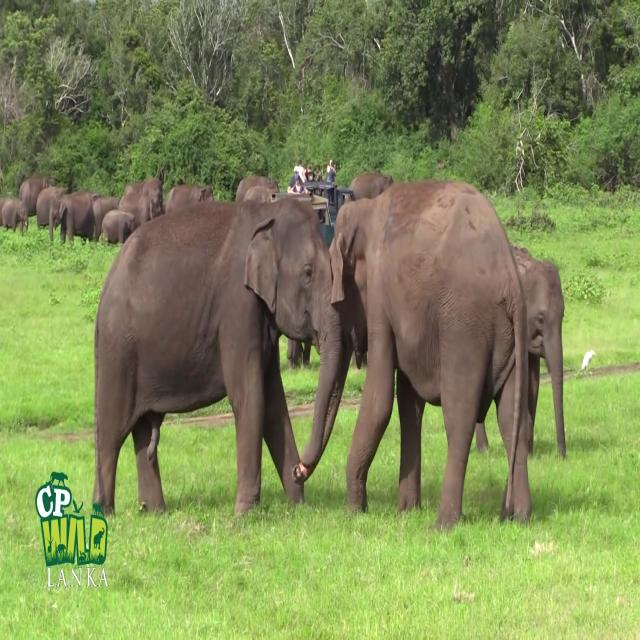Elephant: (294, 178, 534, 533), (92, 196, 352, 519)
